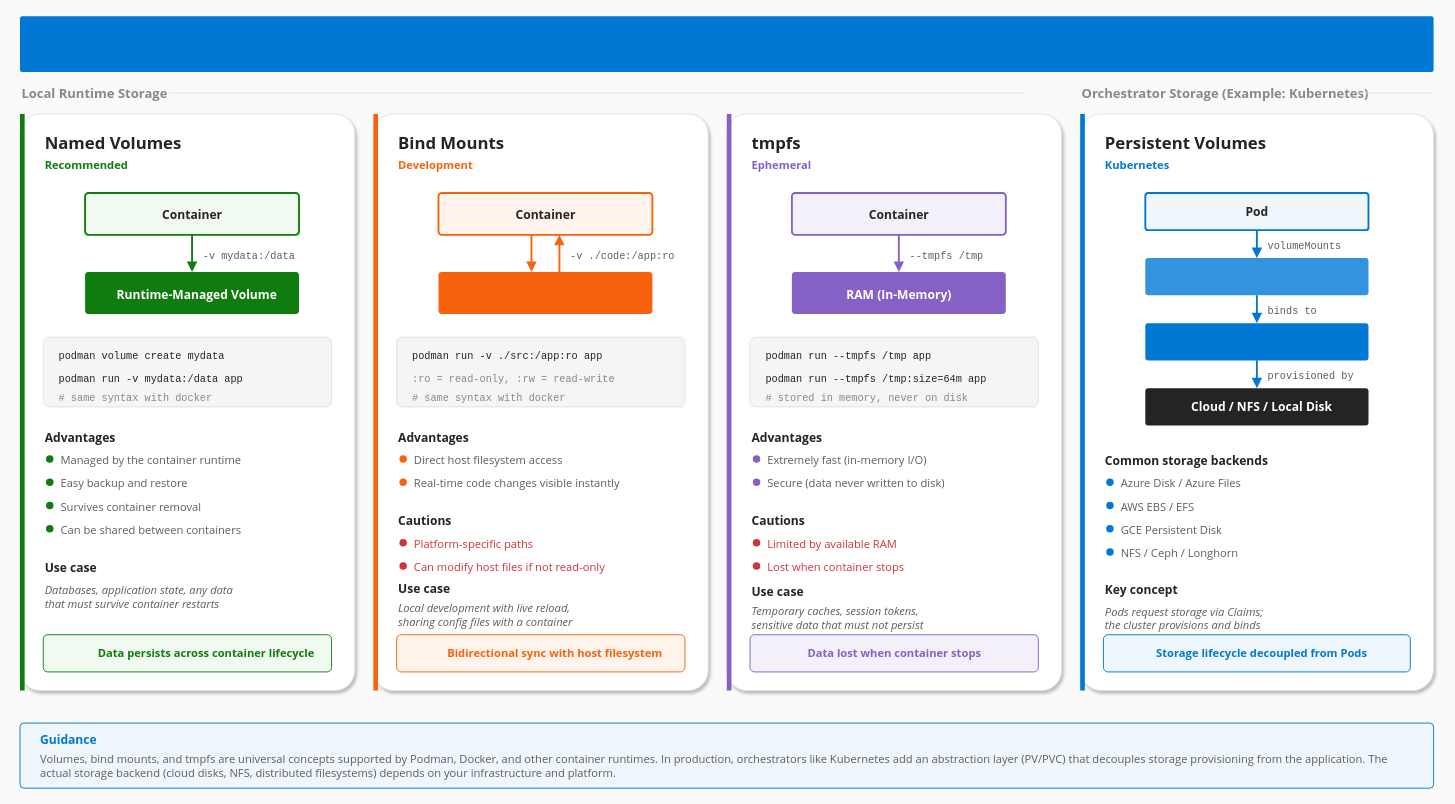
Some shapes in this 1455 by 804 pixel diagram are drawn without their labels. The shapes that lost their labels are listed below. From the top down, each one's centre as x and y in pixels, then its label:
At (x=726, y=44): "Container Storage Options".
At (x=545, y=292): "Host Filesystem".
At (x=1256, y=276): "PersistentVolumeClaim".
At (x=1256, y=341): "PersistentVolume".
